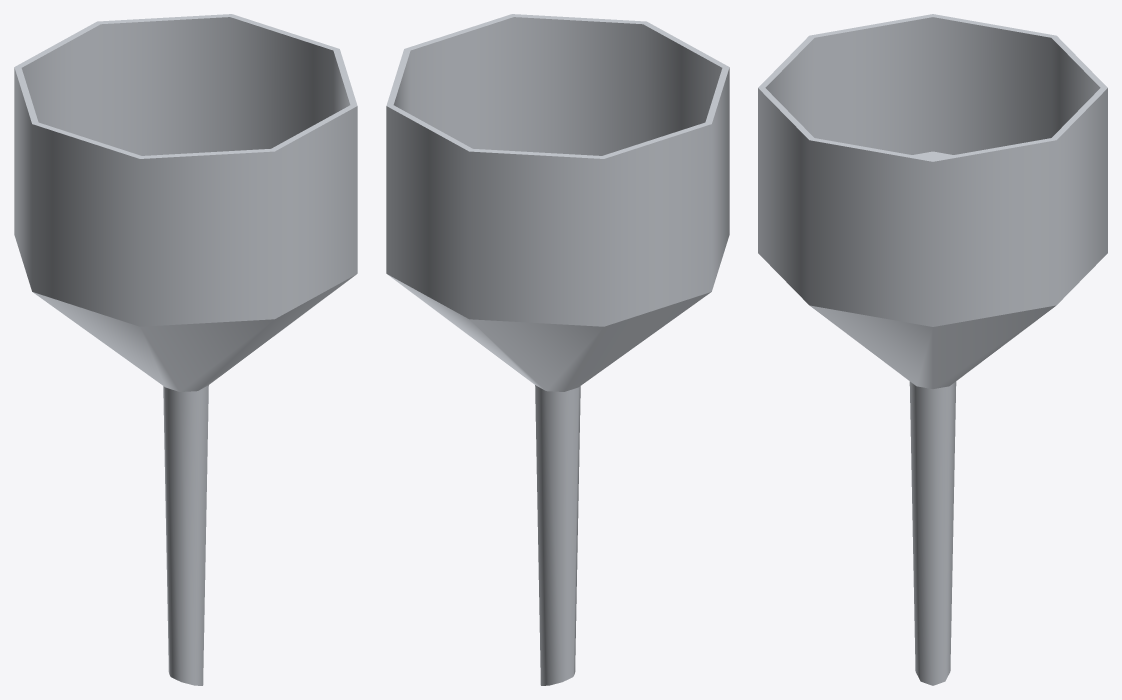
Rendered from funnel_b_chner_funnel.fbx.
The picture shows the model from 3 angles, left to right: view 1: azimuth 30°, elevation 25°; view 2: azimuth 150°, elevation 25°; view 3: azimuth 270°, elevation 25°; orthographic projection.
Visible parts, largest first — view 1: funnel_büchner_funnel; view 2: funnel_büchner_funnel; view 3: funnel_büchner_funnel.
Part boxes in pixels (x1,y1,x2,y2): funnel_büchner_funnel: (14,14,357,685); funnel_büchner_funnel: (386,14,729,685); funnel_büchner_funnel: (758,14,1107,685).
Size of the model in its own units: 1988 by 3703 by 1988.
Materials: 1 (1 with a texture image).
